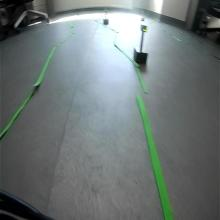green: (140, 22, 148, 33)
